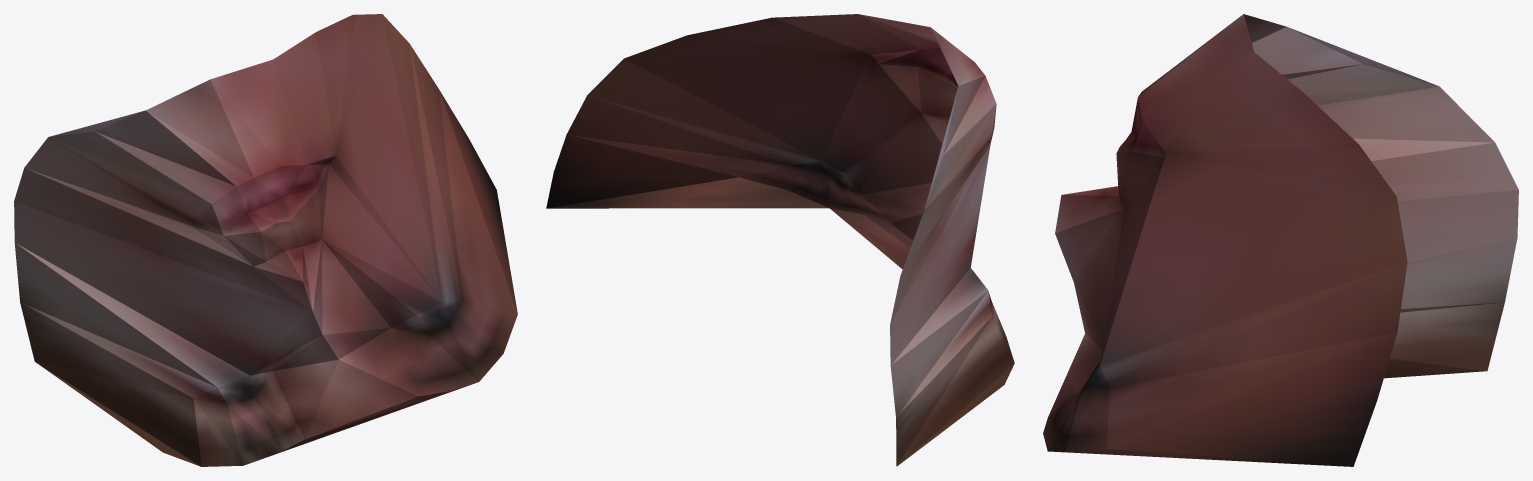
Rendered from real_23566.obj.
3 renders of one model, left to right at view 1: azimuth 30°, elevation 25°; view 2: azimuth 150°, elevation 25°; view 3: azimuth 270°, elevation 25°, orthographic. The views are drawn at different scales.
Size of the model in its own units: 116 by 94 by 99.82.
